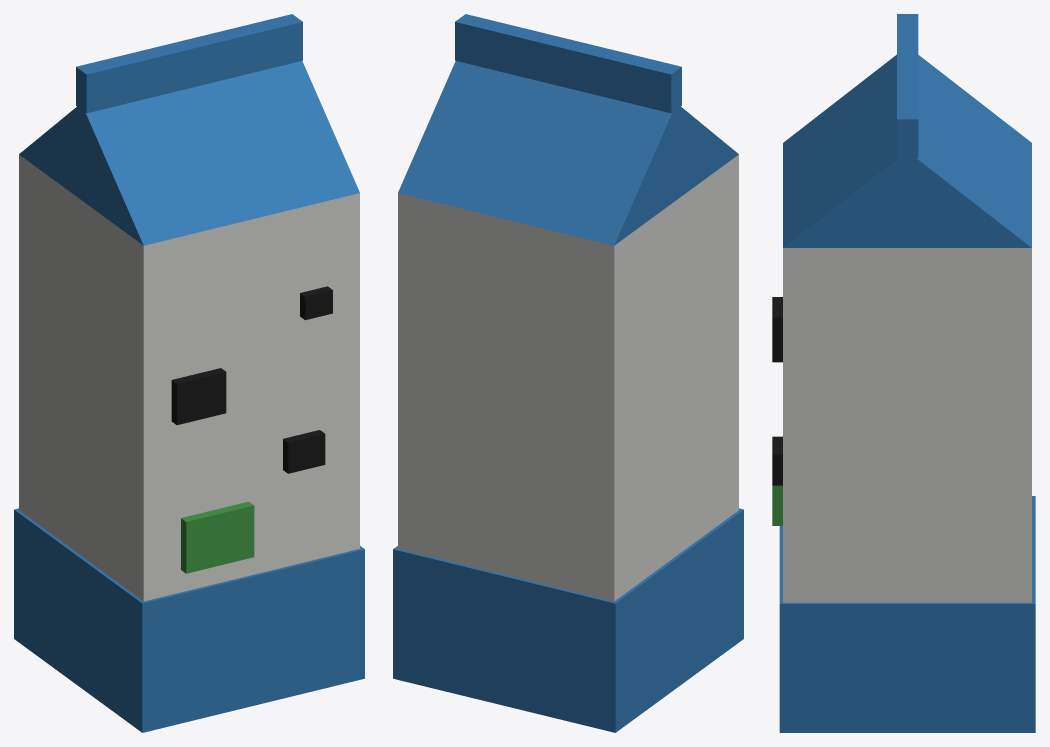
File: hh_hop_sua.glb
3 views of the same model, side by side, from view 1: azimuth 30°, elevation 25°; view 2: azimuth 150°, elevation 25°; view 3: azimuth 270°, elevation 25° (orthographic).
Parts seen in each view (by area): view 1: hh_hop_sua; view 2: hh_hop_sua; view 3: hh_hop_sua.
Boxes of the visible parts, x1,y1,x2,y2 form: hh_hop_sua: [14, 14, 364, 732]; hh_hop_sua: [393, 14, 743, 732]; hh_hop_sua: [772, 14, 1035, 732].
Bounding box in the file's own units: 0.072 × 0.19 × 0.074.
